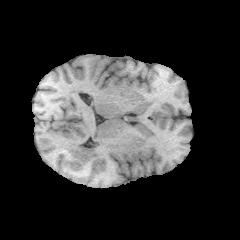glioma: (59, 140, 102, 166)
